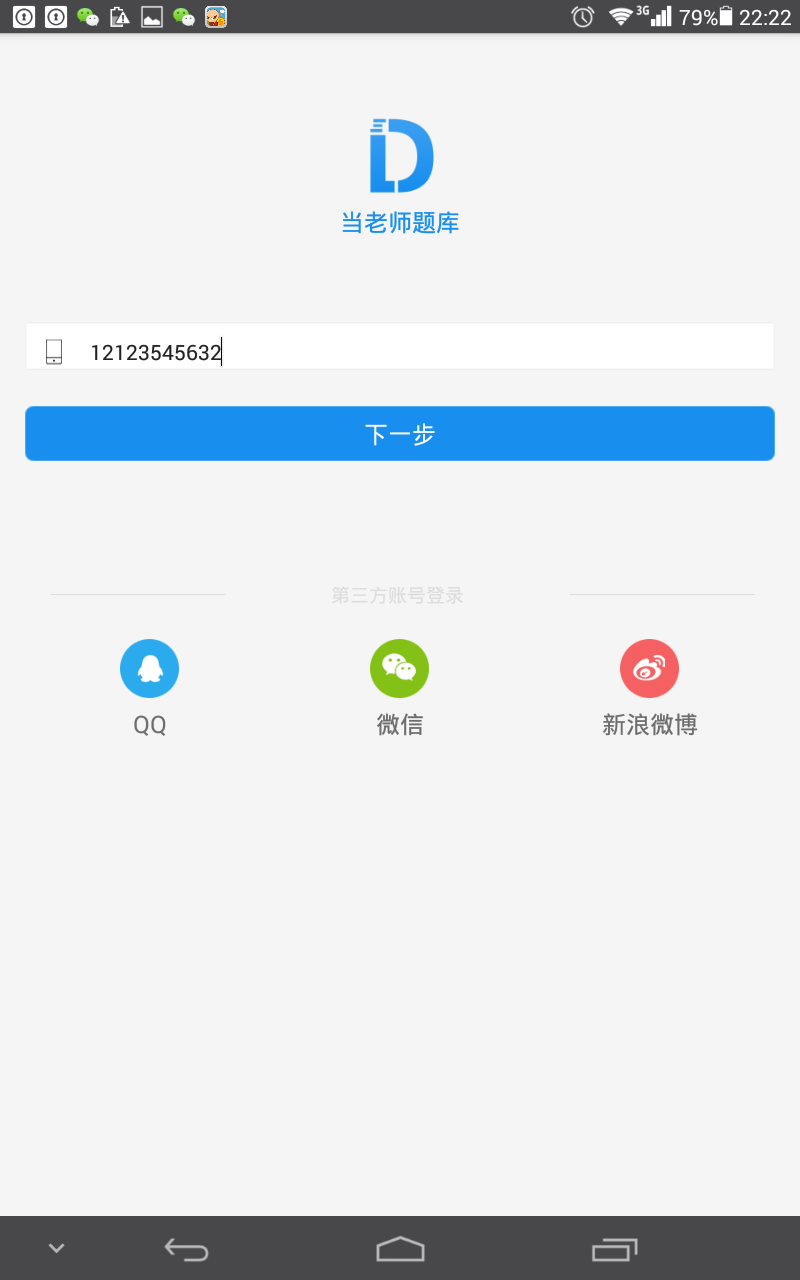button: (22, 399, 779, 469)
textview: (29, 315, 788, 383)
